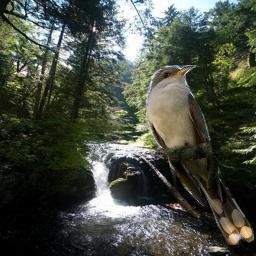Cuckoo: (146, 65, 254, 245)
